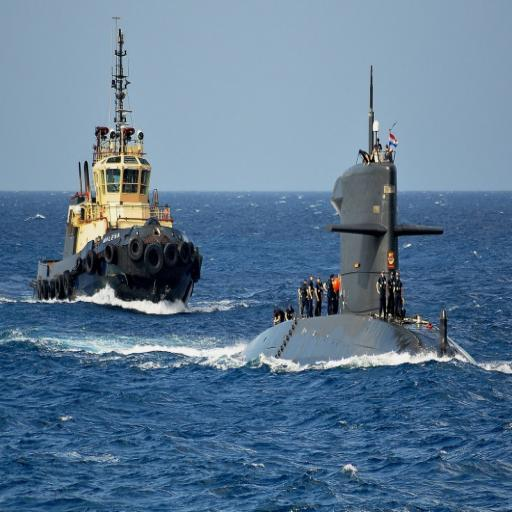submarine: (238, 64, 480, 367)
